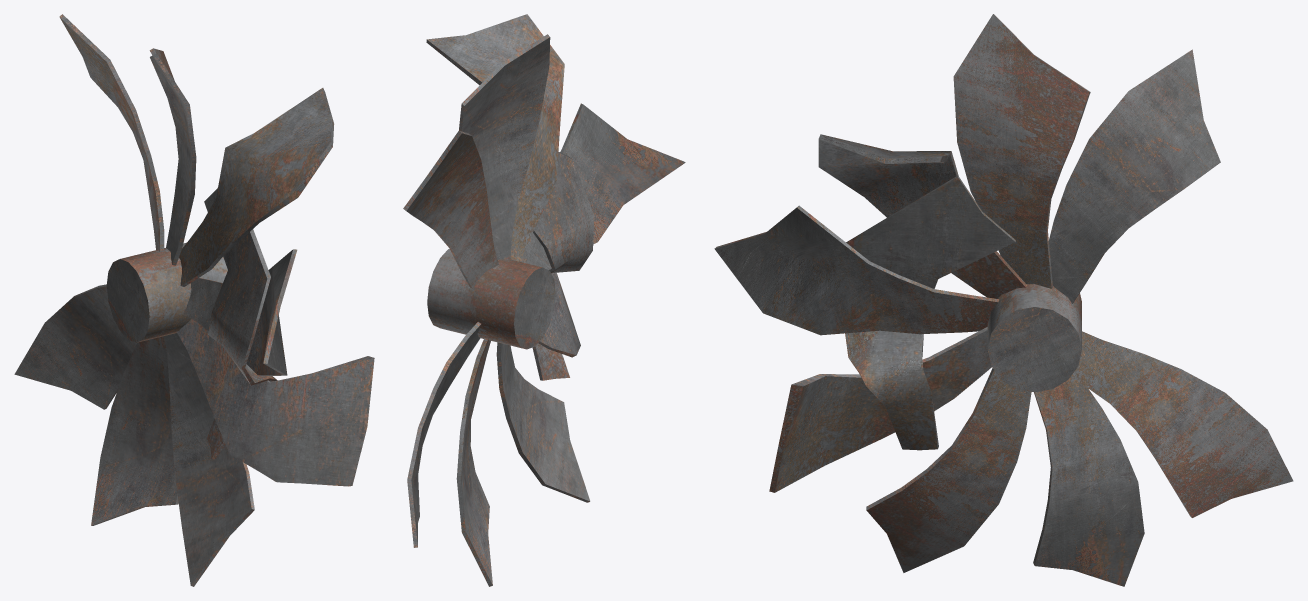
Rendered from BrokenFan03.FBX.
The picture shows the model from 3 angles, left to right: view 1: azimuth 30°, elevation 25°; view 2: azimuth 150°, elevation 25°; view 3: azimuth 270°, elevation 25°; orthographic projection. The views are drawn at different scales.
Visible parts, largest first — view 1: BrokenFans03, BrokenFans03Center; view 2: BrokenFans03, BrokenFans03Center; view 3: BrokenFans03, BrokenFans03Center.
Part boxes in pixels (x1,y1,x2,y2): BrokenFans03: [14, 14, 374, 586]; BrokenFans03Center: [106, 242, 227, 342]; BrokenFans03: [403, 14, 685, 586]; BrokenFans03Center: [427, 249, 555, 349]; BrokenFans03: [714, 14, 1293, 586]; BrokenFans03Center: [987, 284, 1081, 392].
Size of the model in its own units: 87.95 by 245 by 268.
